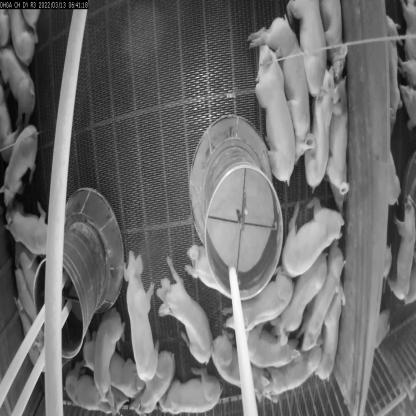Pig: (243, 11, 318, 166), (250, 41, 298, 193), (118, 244, 165, 392), (156, 253, 215, 368), (294, 236, 347, 351), (278, 190, 345, 277), (221, 270, 294, 346), (210, 326, 273, 408), (286, 0, 332, 101), (278, 250, 326, 346), (84, 331, 147, 403), (0, 121, 46, 217), (90, 296, 128, 408), (259, 343, 324, 408), (304, 66, 336, 192), (183, 236, 236, 312), (60, 355, 122, 415), (314, 277, 347, 387), (326, 75, 352, 210), (376, 9, 404, 131), (127, 349, 176, 415), (0, 48, 38, 132), (390, 187, 416, 308), (159, 366, 223, 415), (316, 0, 351, 88), (11, 289, 46, 376), (239, 323, 298, 372), (6, 202, 50, 258), (6, 1, 40, 69), (0, 83, 27, 167), (12, 265, 40, 329), (17, 250, 46, 298)
